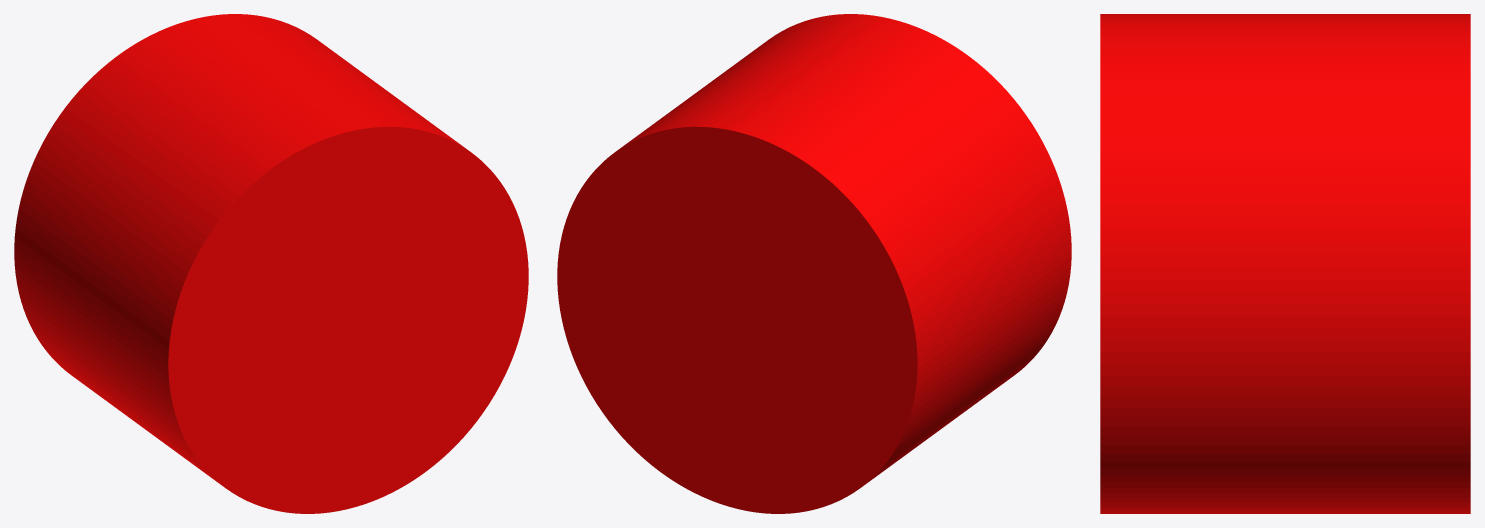
The model's file is scanbot_s06_y_cyl_link.dae.
3 views of the same model, side by side, from view 1: azimuth 30°, elevation 25°; view 2: azimuth 150°, elevation 25°; view 3: azimuth 270°, elevation 25° (orthographic). The views are drawn at different scales.
Visible parts, largest first — view 1: node0; view 2: node0; view 3: node0.
Boxes of the visible parts, x1,y1,x2,y2 form: node0: (14, 14, 528, 513); node0: (557, 14, 1071, 513); node0: (1100, 14, 1470, 513).
Size of the model in its own units: 0.054 by 0.04 by 0.054.
